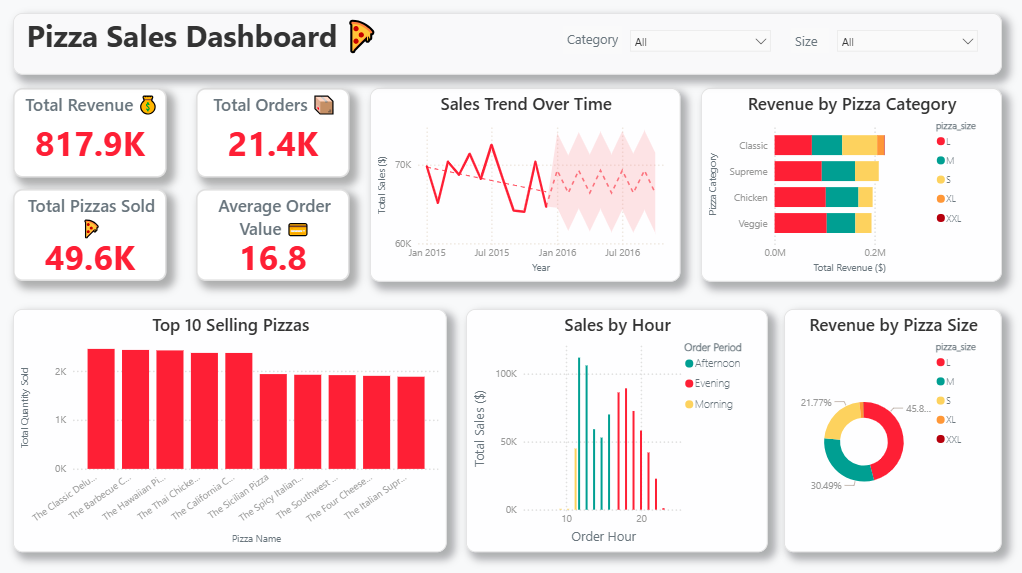

The page's visual inventory and layout, read from the dashboard file:
{"tool":"powerbi","page":{"name":"Page 1","canvas":[1280,720],"ordinal":0},"visuals":[{"type":"textbox","title":"Pizza Sales Dashboard 🍕","box":[17.9,17.9,1235.9,76.9],"z":0,"group":"g1"},{"type":"textbox","box":[705.1,34.6,74.4,34.6],"z":1000,"group":"g1"},{"type":"barChart","title":"Revenue by Pizza Category","fields":{"Category":["pizza_sales.pizza_category"],"Y":["Sum(pizza_sales.total_price)"],"Series":["pizza_sales.pizza_size"]},"box":[878.2,111.5,375.6,242.3],"z":2000,"group":"g2"},{"type":"donutChart","title":"Revenue by Pizza Size","fields":{"Category":["pizza_sales.pizza_size"],"Y":["Sum(pizza_sales.total_price)"]},"box":[982,388.4,271.8,303.8],"z":3000,"group":"g2"},{"type":"columnChart","title":"Top 10 Selling Pizzas","fields":{"Category":["pizza_sales.pizza_name"],"Y":["Sum(pizza_sales.quantity)"]},"box":[17.9,388.4,542.3,303.8],"z":4000,"group":"g2"},{"type":"lineChart","title":"Sales Trend Over Time","fields":{"Category":["pizza_sales.order_date.Variation.Date Hierarchy.Year","pizza_sales.order_date.Variation.Date Hierarchy.Quarter","pizza_sales.order_date.Variation.Date Hierarchy.Month"],"Y":["Sum(pizza_sales.total_price)"]},"box":[464.1,111.5,388.5,242.3],"z":5000,"group":"g2"},{"type":"clusteredColumnChart","title":"Sales by Hour","fields":{"Category":["pizza_sales.Order Hour"],"Y":["Sum(pizza_sales.total_price)"],"Series":["pizza_sales.Order Period"]},"box":[584.6,388.4,376.9,303.8],"z":6000,"group":"g2"},{"type":"card","title":"Total Revenue 💰","fields":{"Values":["Sum(pizza_sales.total_price)"]},"box":[17.9,111.5,192.3,111.5],"z":7000,"group":"g2"},{"type":"card","title":"Total Pizzas Sold 🍕","fields":{"Values":["Sum(pizza_sales.quantity)"]},"box":[17.9,238.4,192.3,115.4],"z":8000,"group":"g2"},{"type":"card","title":"Total Orders 📦","fields":{"Values":["Count(pizza_sales.order_id)"]},"box":[246.1,111.5,192.3,111.5],"z":9000,"group":"g2"},{"type":"card","title":"Average Order Value 💳","fields":{"Values":["Avg(pizza_sales.total_price)"]},"box":[246.1,238.4,192.3,115.4],"z":10000,"group":"g2"},{"type":"slicer","title":"Category","fields":{"Values":["pizza_sales.pizza_category"]},"box":[779.4,29.4,196.2,44.9],"z":11000,"group":"g1"},{"type":"slicer","title":"Size","fields":{"Values":["pizza_sales.pizza_size"]},"box":[1038.4,29.4,196.2,44.9],"z":12000,"group":"g1"},{"type":"textbox","box":[991,37.1,47.4,30.8],"z":13000,"group":"g1"},{"type":"group","id":"g1","title":"Group 1","box":[17.9,17.9,1235.9,76.9],"z":13001,"group":"g2"},{"type":"group","id":"g2","title":"Group 2","box":[17.9,17.9,1235.9,674.4],"z":13002}]}

Visuals, with their boxes in screenshot pixels (x1, y1, x2, y2), scaled from the page's 1280x720 canvas onto the 1022x573 screenshot:
"Pizza Sales Dashboard 🍕" textbox: rect(14, 14, 1001, 75)
textbox: rect(563, 28, 622, 55)
"Revenue by Pizza Category" barChart: rect(701, 89, 1001, 282)
"Revenue by Pizza Size" donutChart: rect(784, 309, 1001, 551)
"Top 10 Selling Pizzas" columnChart: rect(14, 309, 447, 551)
"Sales Trend Over Time" lineChart: rect(371, 89, 681, 282)
"Sales by Hour" clusteredColumnChart: rect(467, 309, 768, 551)
"Total Revenue 💰" card: rect(14, 89, 168, 177)
"Total Pizzas Sold 🍕" card: rect(14, 190, 168, 282)
"Total Orders 📦" card: rect(196, 89, 350, 177)
"Average Order Value 💳" card: rect(196, 190, 350, 282)
"Category" slicer: rect(622, 23, 779, 59)
"Size" slicer: rect(829, 23, 986, 59)
textbox: rect(791, 30, 829, 54)
"Group 1" group: rect(14, 14, 1001, 75)
"Group 2" group: rect(14, 14, 1001, 551)
